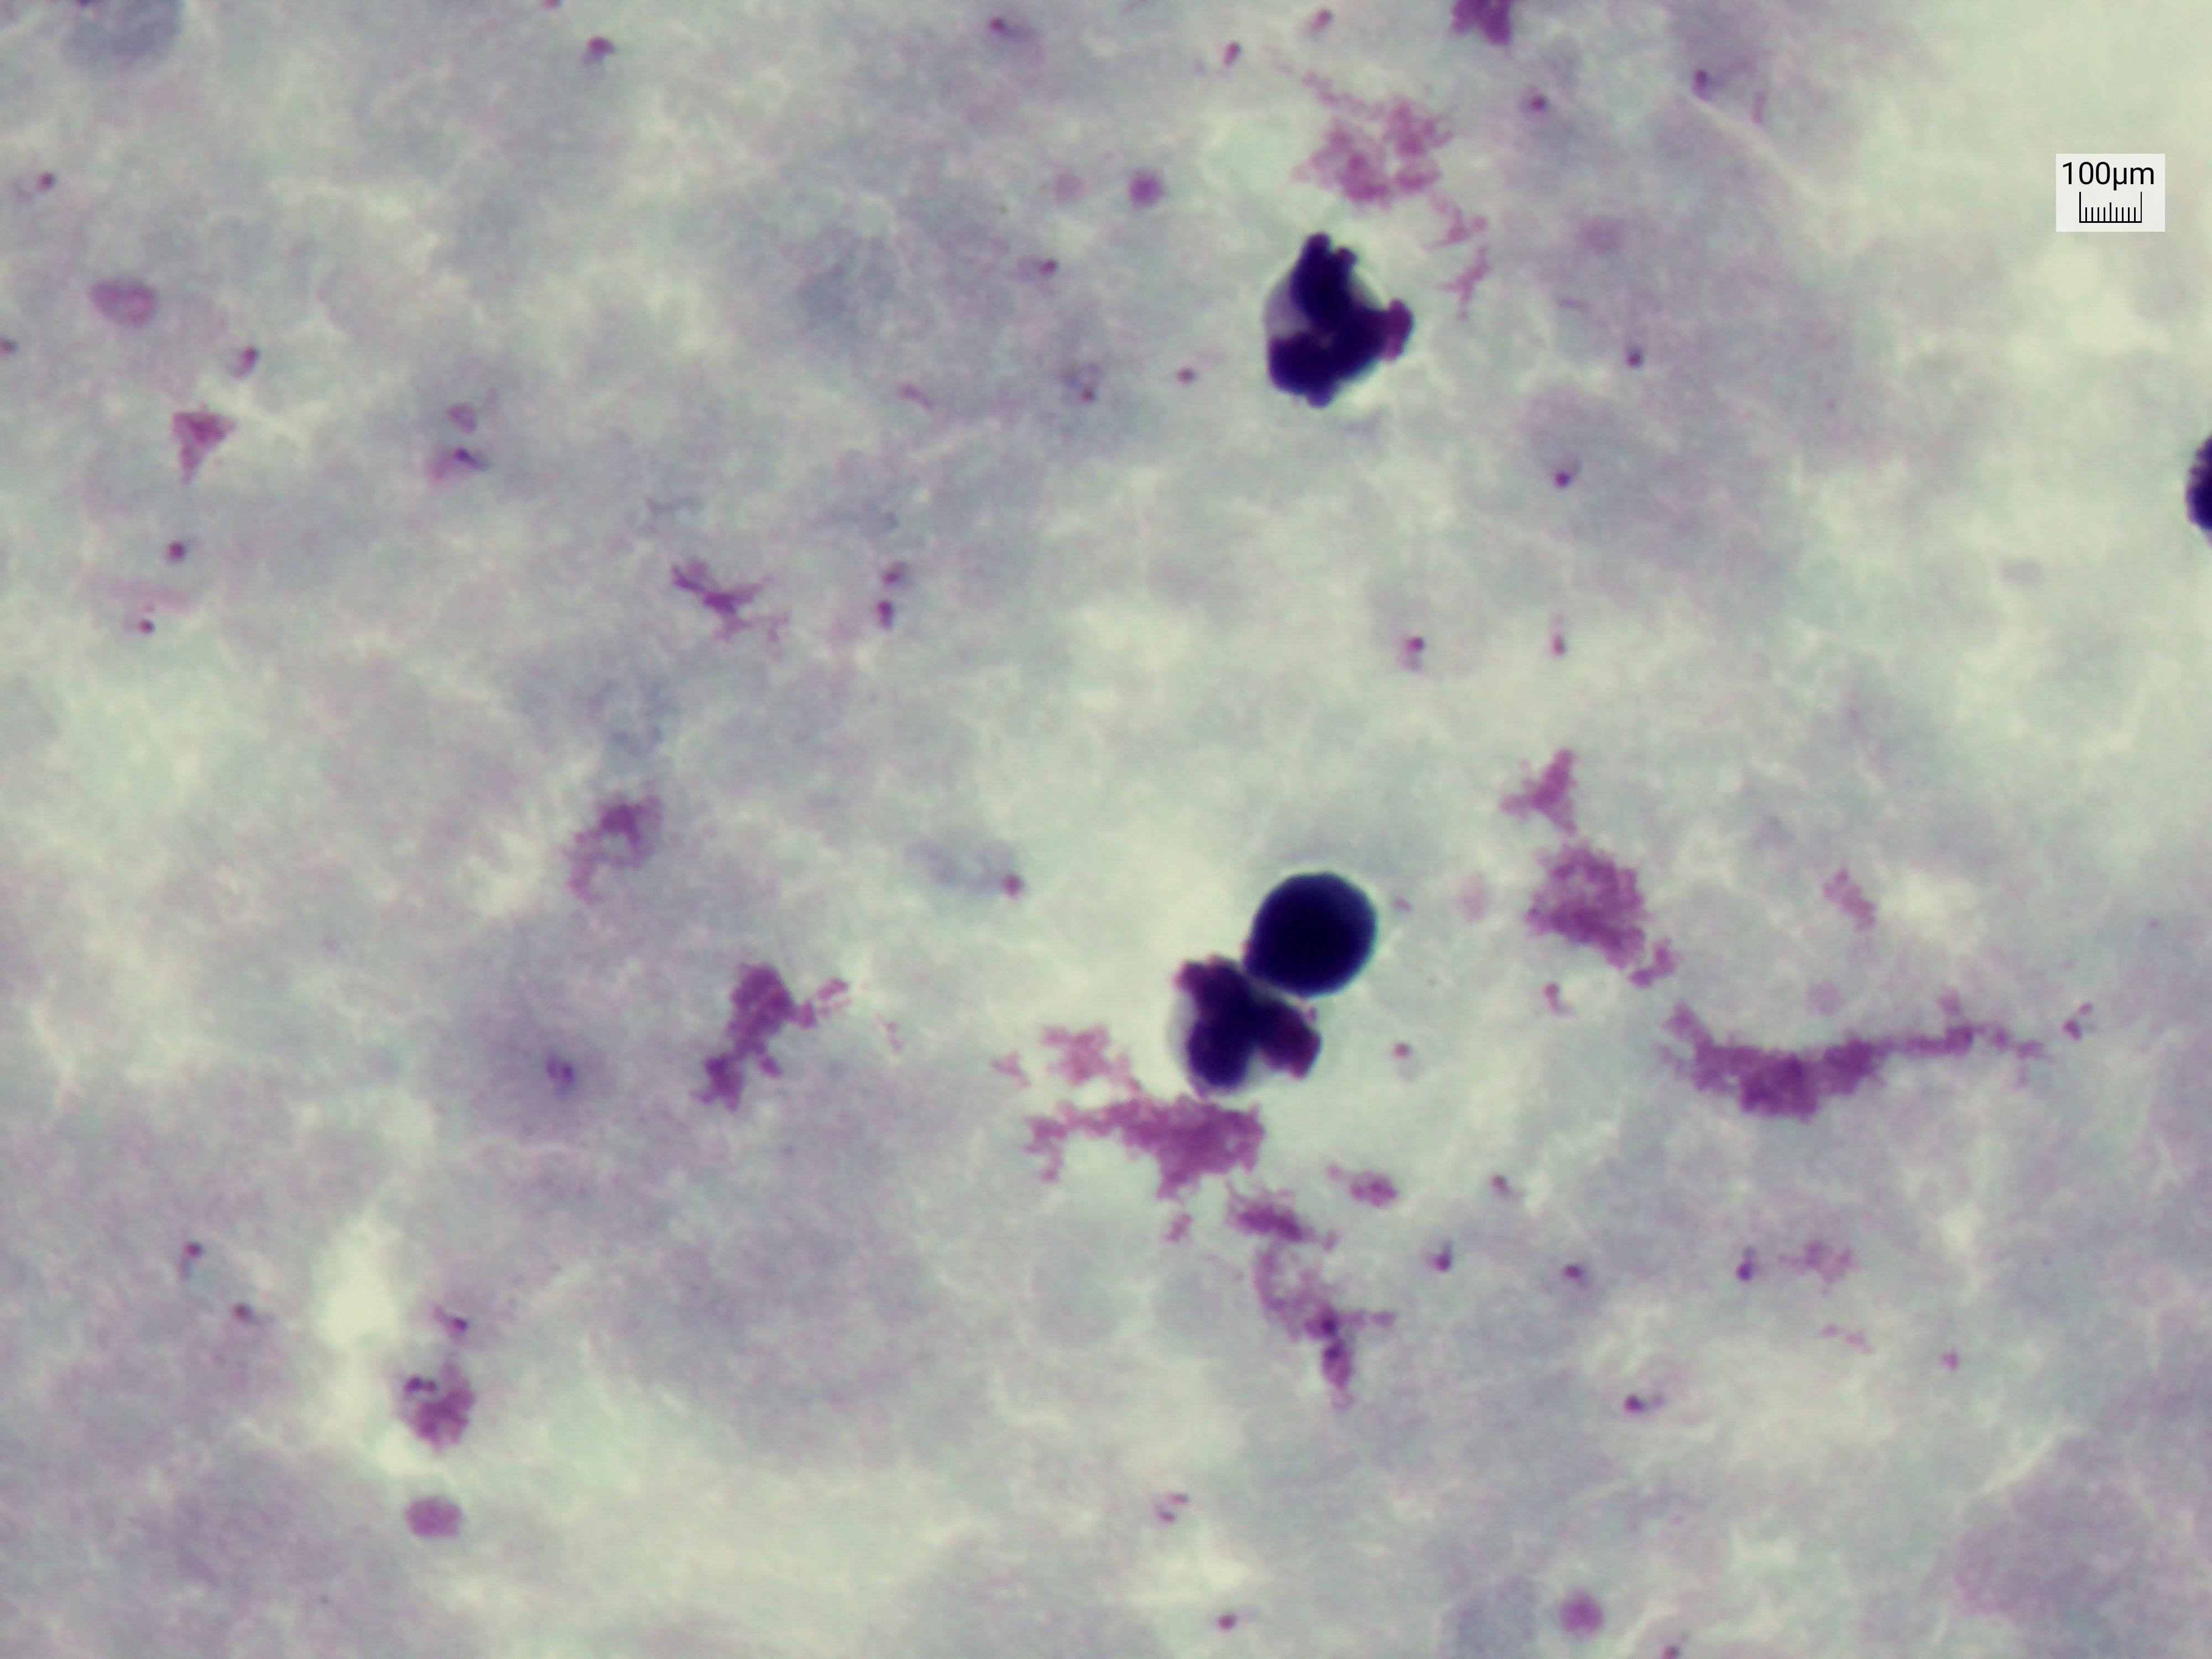p.falciparum: (415, 375, 516, 516), (113, 521, 214, 655), (528, 1023, 625, 1140), (852, 542, 956, 645), (1150, 333, 1240, 437), (127, 1220, 247, 1298), (1559, 307, 1674, 387), (199, 305, 286, 404), (415, 1284, 524, 1361), (956, 838, 1050, 924), (1526, 570, 1590, 694), (1672, 17, 1754, 112), (1130, 1457, 1211, 1553), (1049, 328, 1120, 427), (1369, 594, 1440, 688), (961, 0, 1047, 77), (2057, 974, 2114, 1086), (216, 1248, 277, 1351), (1510, 955, 1580, 1042), (0, 141, 75, 221), (1501, 52, 1566, 141), (1411, 1192, 1472, 1284), (1599, 1352, 1665, 1436), (1717, 1211, 1775, 1307), (1531, 432, 1599, 512), (1015, 227, 1080, 307), (570, 12, 634, 87), (1393, 1007, 1435, 1115), (1482, 1143, 1531, 1234), (1552, 1234, 1606, 1309), (1195, 1582, 1261, 1640), (1214, 28, 1259, 106), (1291, 0, 1350, 44), (0, 288, 26, 380)
